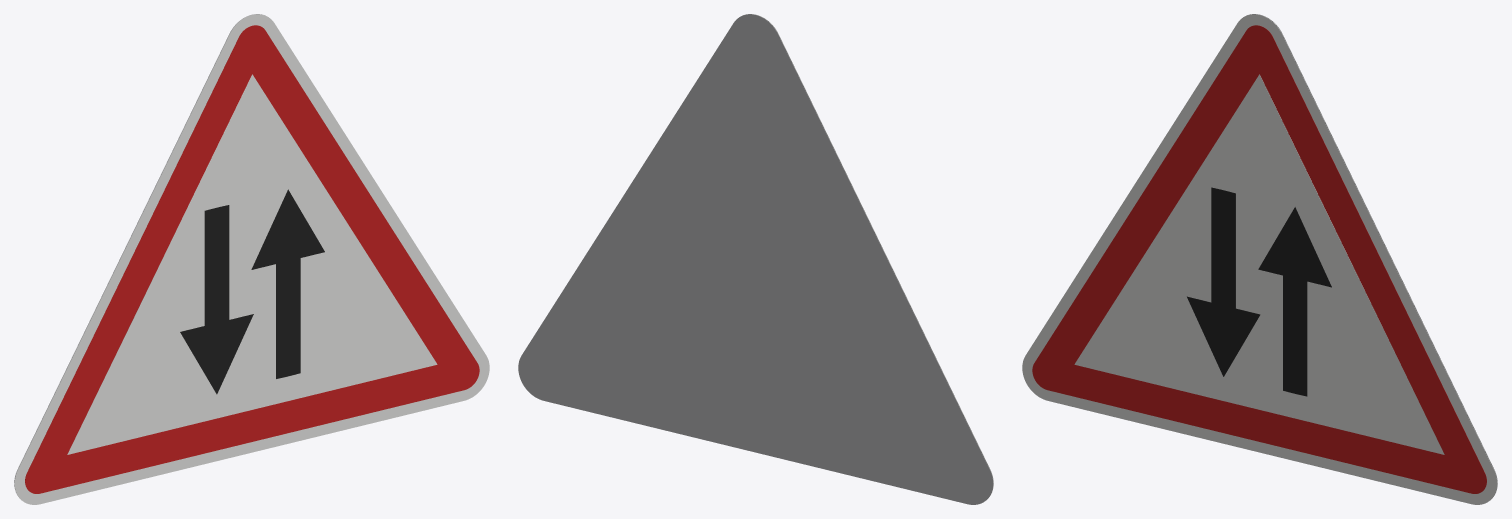
3 views of the same model, side by side, from view 1: azimuth 30°, elevation 25°; view 2: azimuth 150°, elevation 25°; view 3: azimuth 330°, elevation 25° (orthographic).
Parts seen in each view (by area): view 1: A18_p02, A18_p01, A18_p00, A18_p04, A18_p03, A18_dos; view 2: A18_dos, A18_p00; view 3: A18_p02, A18_p01, A18_p00, A18_p03, A18_p04, A18_dos.
Boxes of the visible parts, <box> form: A18_p02: <box>67,74,437,454</box>; A18_p01: <box>25,25,479,493</box>; A18_p00: <box>14,14,489,504</box>; A18_p04: <box>180,205,253,394</box>; A18_p03: <box>251,189,324,378</box>; A18_dos: <box>14,14,265,500</box>; A18_dos: <box>518,14,993,504</box>; A18_p00: <box>742,14,993,500</box>; A18_p02: <box>1074,74,1444,454</box>; A18_p01: <box>1032,25,1486,493</box>; A18_p00: <box>1022,14,1497,504</box>; A18_p03: <box>1258,207,1331,396</box>; A18_p04: <box>1187,187,1260,376</box>; A18_dos: <box>1246,14,1497,500</box>.
Bounding box in the file's own units: 1 × 0.8803 × 0.0035.
